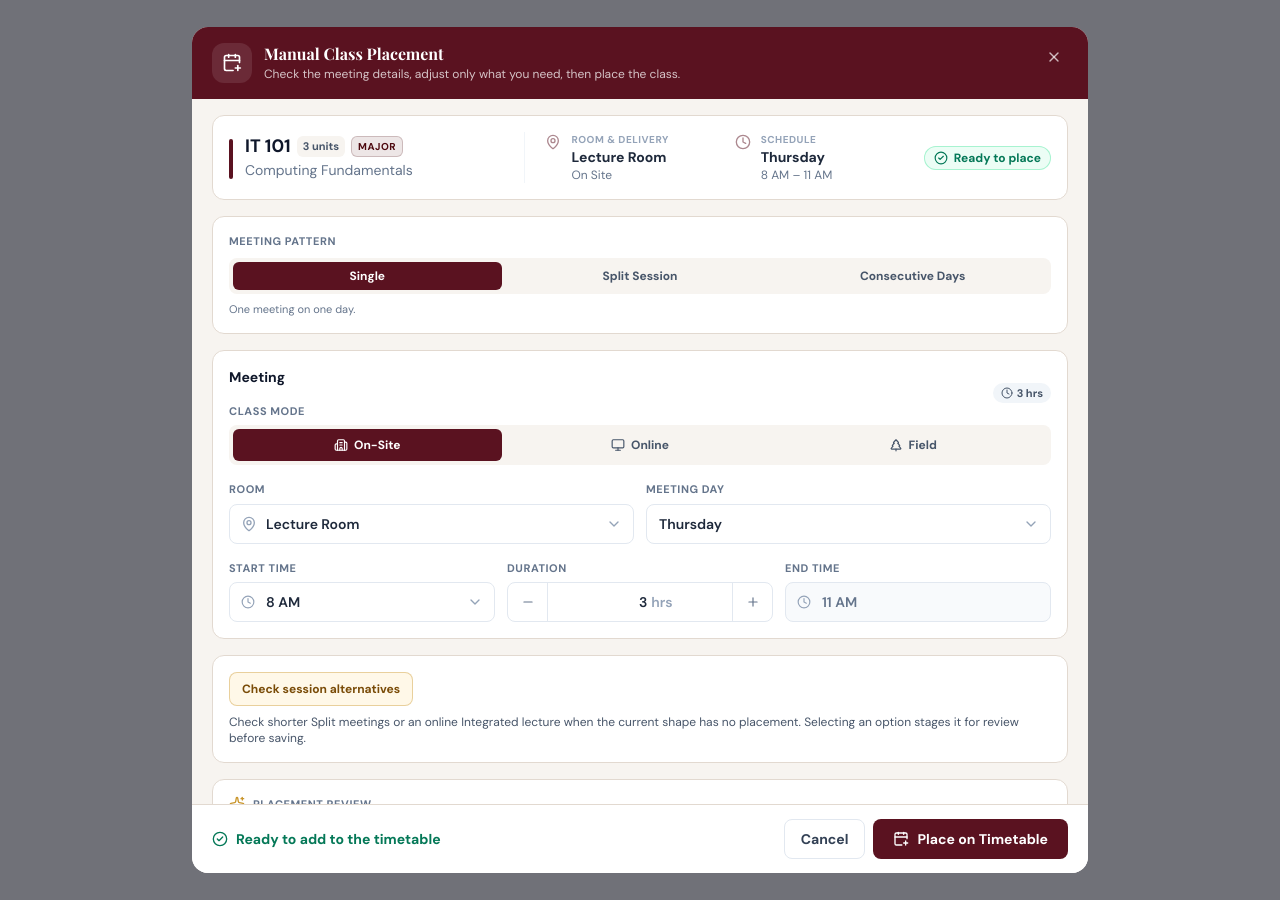
Test: DropModal Consecutive Days › turns a single meeting into a run of the chosen length, and back
This screenshot has width=1280, height=900.
Click the radio button labelled "Consecutive Days": x=913, y=276 [778, 262, 1047, 290]
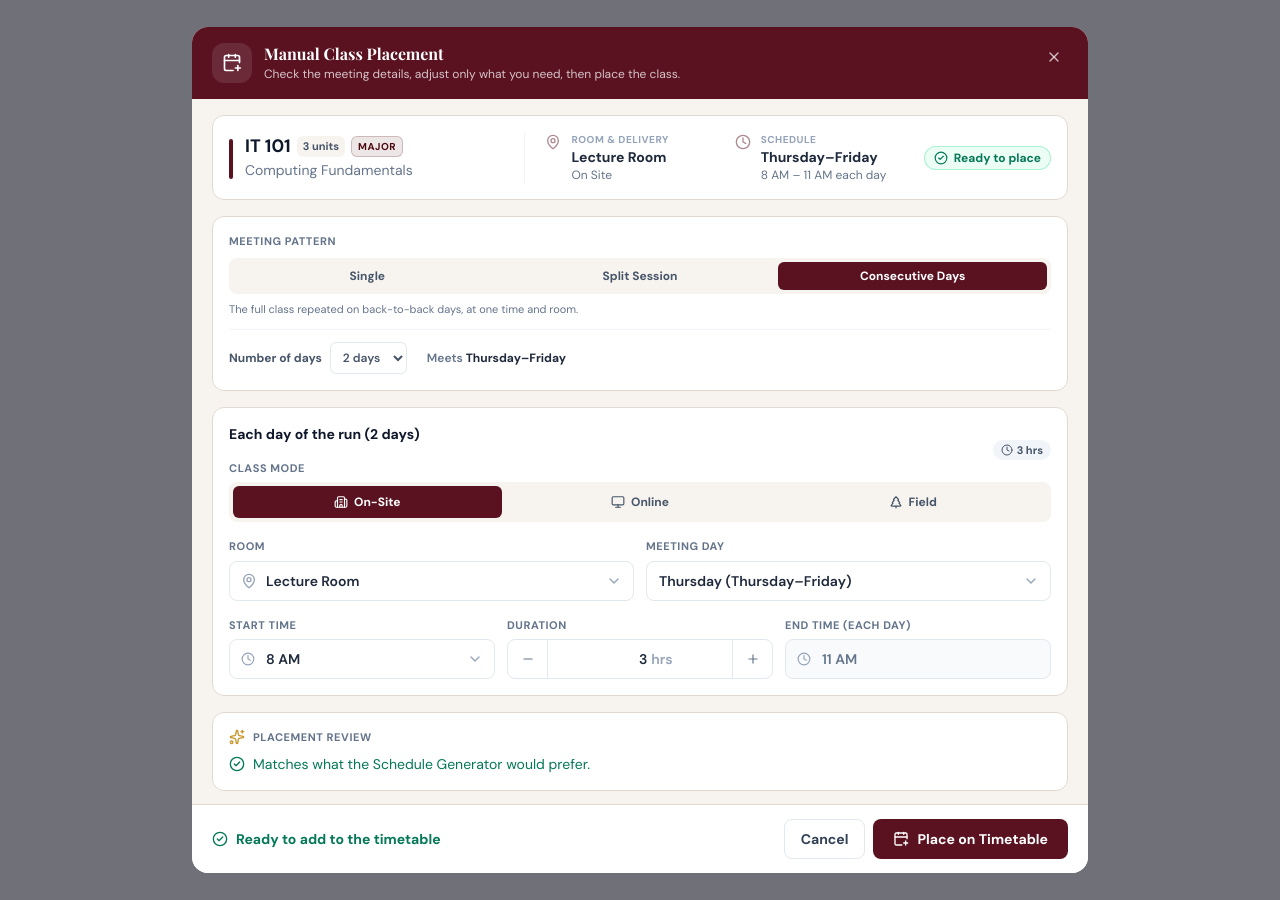
Expected: the dropdown labelled "Number of days" shows "2 days"
Expected: the heading "Each day of the run (2 days)" is shown, [229, 425, 420, 443]
Expected: the dropdown named "Starting day" shows "Thursday (Thursday–Friday)", [646, 561, 1051, 601]
Select "3 days" in the dropdown labelled "Number of days": x=368, y=358 [330, 342, 407, 374]
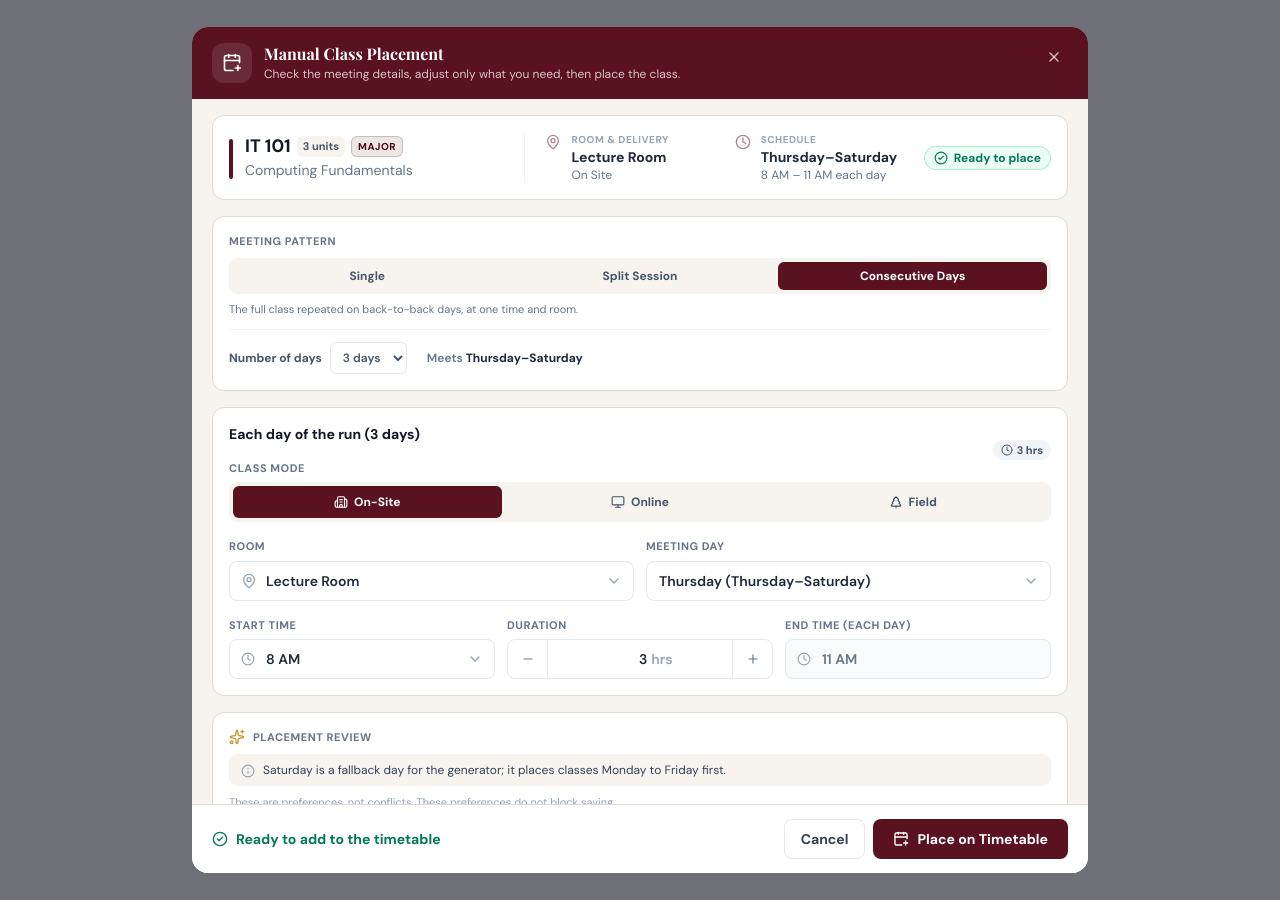
Expected: the text "Thursday–Saturday" below "Schedule" is shown, [761, 148, 897, 166]
Click the radio button labelled "Single": x=367, y=276 [233, 262, 502, 290]
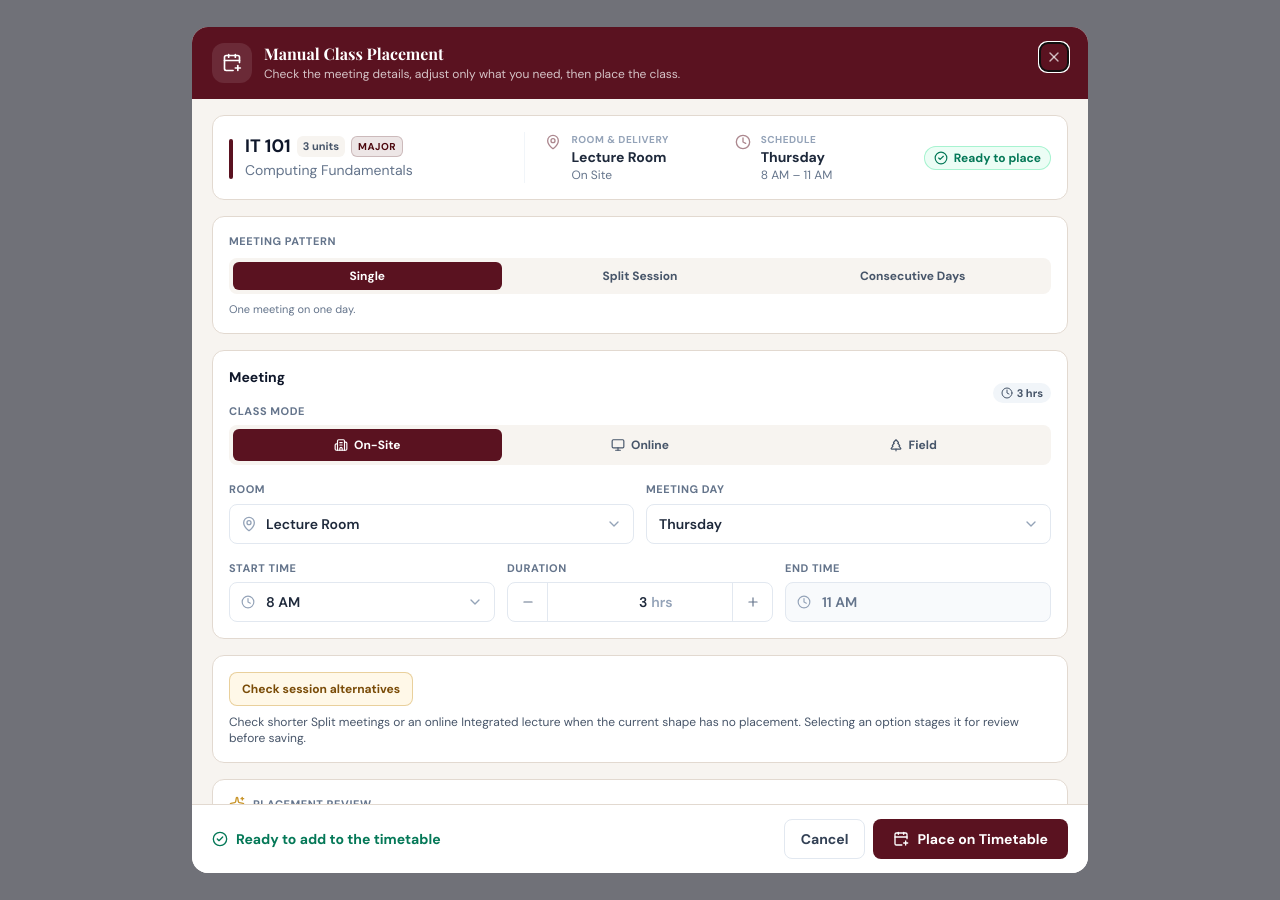
Expected: the label labelled "Number of days" is gone
Expected: the heading "Meeting" is shown, [229, 368, 285, 386]
